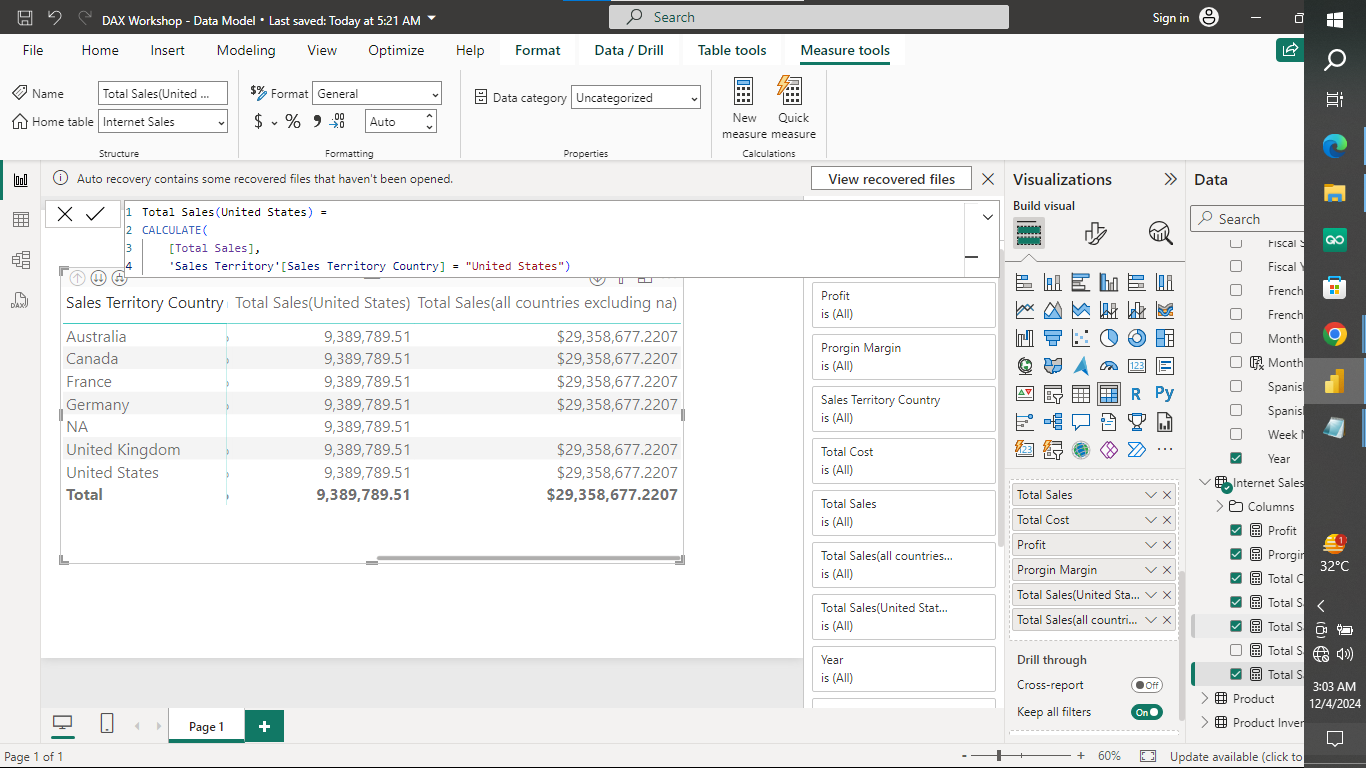

The dashboard page shown, as its layout file describes it:
{"tool":"powerbi","page":{"name":"Page 1","canvas":[1280,720],"ordinal":0},"visuals":[{"type":"pivotTable","fields":{"Values":["Internet Sales.Total Sales","Internet Sales.Total Cost","Internet Sales.Profit","Internet Sales.Total Sales(United States)","Internet Sales.Prorgin Margin","Internet Sales.YTD sales","Internet Sales.Total Sales(Canada)","Internet Sales.Total Sales(All countries)","Internet Sales.Fiscal YTD Sales","Internet Sales.YTD Sales(weekdays)"],"Rows":["Sales Territory.Sales Territory Country","Date.Year","Date.Day Number Of Week"]},"box":[231.8,126,1048.2,465.3],"z":1}]}

Visuals, with their boxes on the page's 1280x720 design canvas (x1, y1, x2, y2). These are canvas units, not pixel positions in the 1366x768 screenshot, which may show the page scaled, cropped or inside an application window:
pivotTable - Internet Sales.Total Sales x Internet Sales.Total Cost: [232,126,1280,591]
